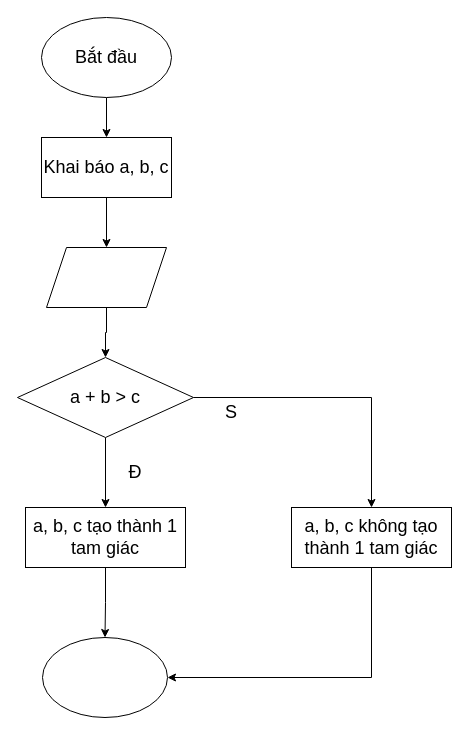
Some shapes in this 469 by 735 pixel diagram are drawn without their labels. The shapes that lost their labels are listed below. From the top down, each one's box as (x1, y1, x2, y2) in pixels, then its label:
(46, 246, 166, 308): a, b, c
(42, 636, 168, 718): Kết thúc
